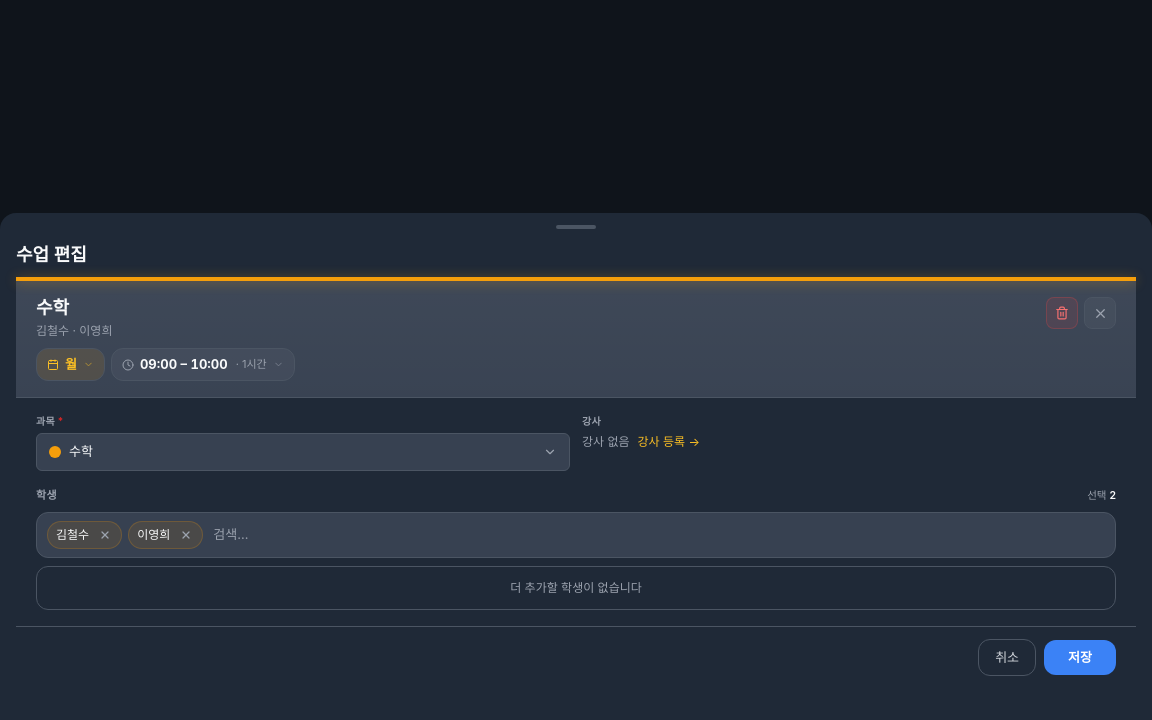
EditSessionModal › 요일 chip 클릭 시 popover에 7개 weekday 버튼이 렌더링된다 (Variant C 채택, 2026-05-12)
This screenshot has width=1152, height=720.
Step 1. Click the button named "요일:" → [70, 365], box [36, 348, 105, 381]
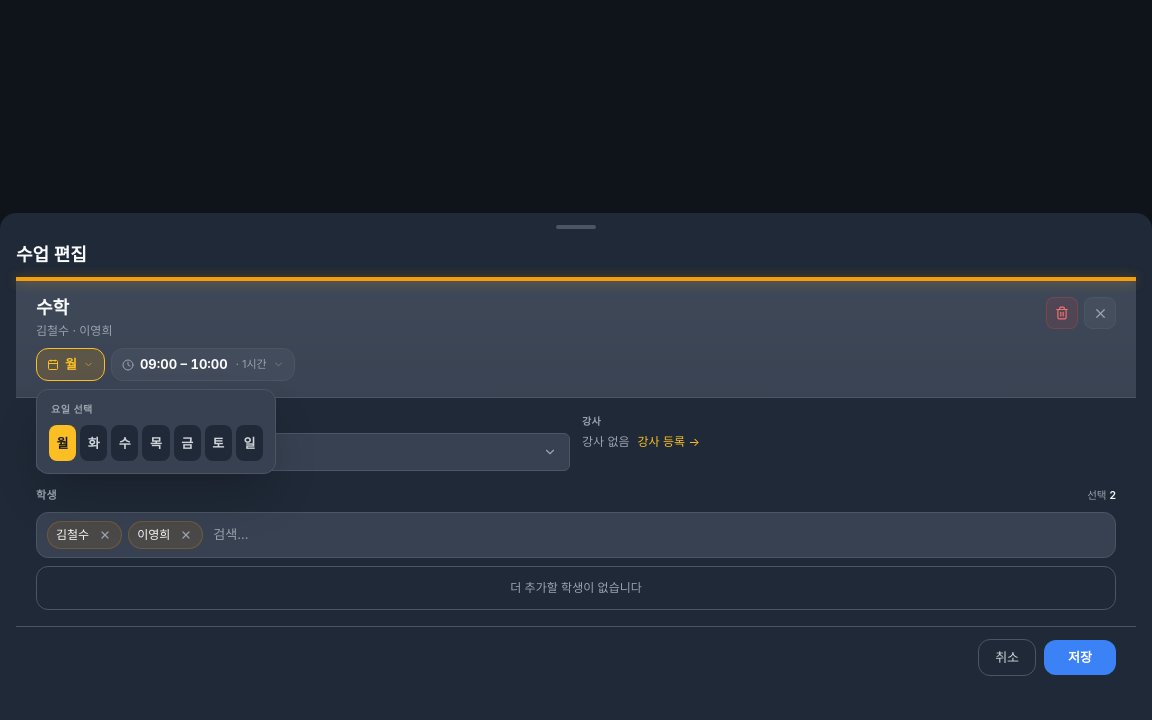
Expected: the button "월" below "요일 선택" is shown, [49, 425, 76, 461]
Expected: the button "일" is shown, [236, 425, 263, 461]
Expected: the button "수" is shown, [111, 425, 138, 461]
